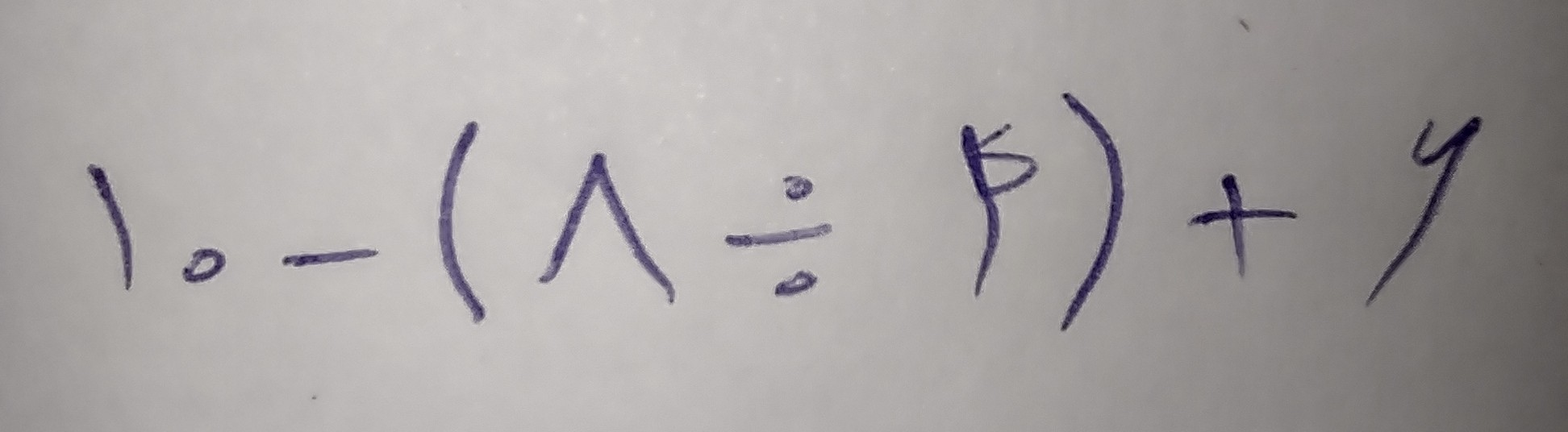character: (1362, 116, 1487, 312), (539, 148, 676, 306), (1060, 91, 1131, 336), (956, 125, 1039, 298), (723, 176, 834, 294), (1187, 172, 1301, 275), (440, 119, 493, 323), (84, 163, 134, 292), (283, 248, 382, 269), (181, 248, 226, 281)
